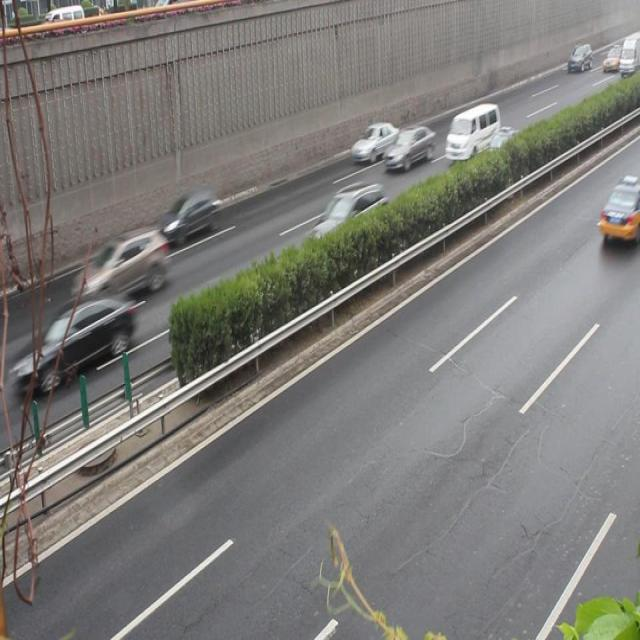car: (24, 294, 134, 392), (71, 226, 167, 302), (306, 179, 385, 252), (152, 190, 220, 246), (597, 175, 640, 248), (384, 124, 434, 172), (350, 123, 398, 164), (481, 130, 522, 171)
truck: (444, 102, 497, 161)
